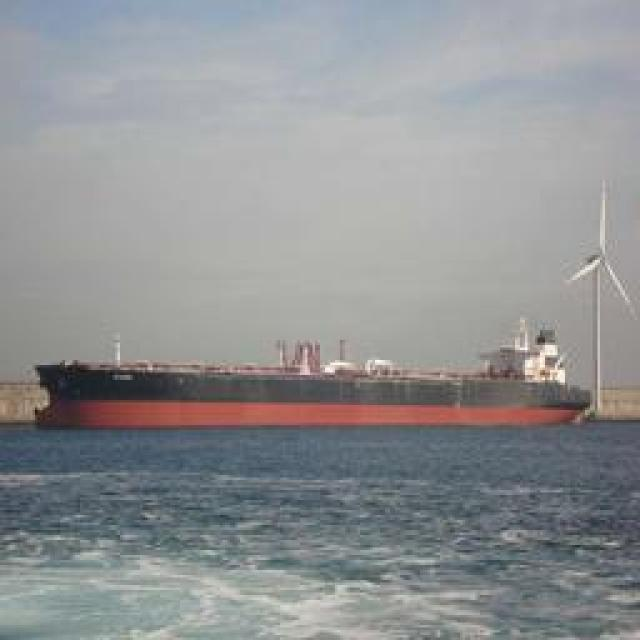CIV_Ship: (31, 355, 591, 433)
